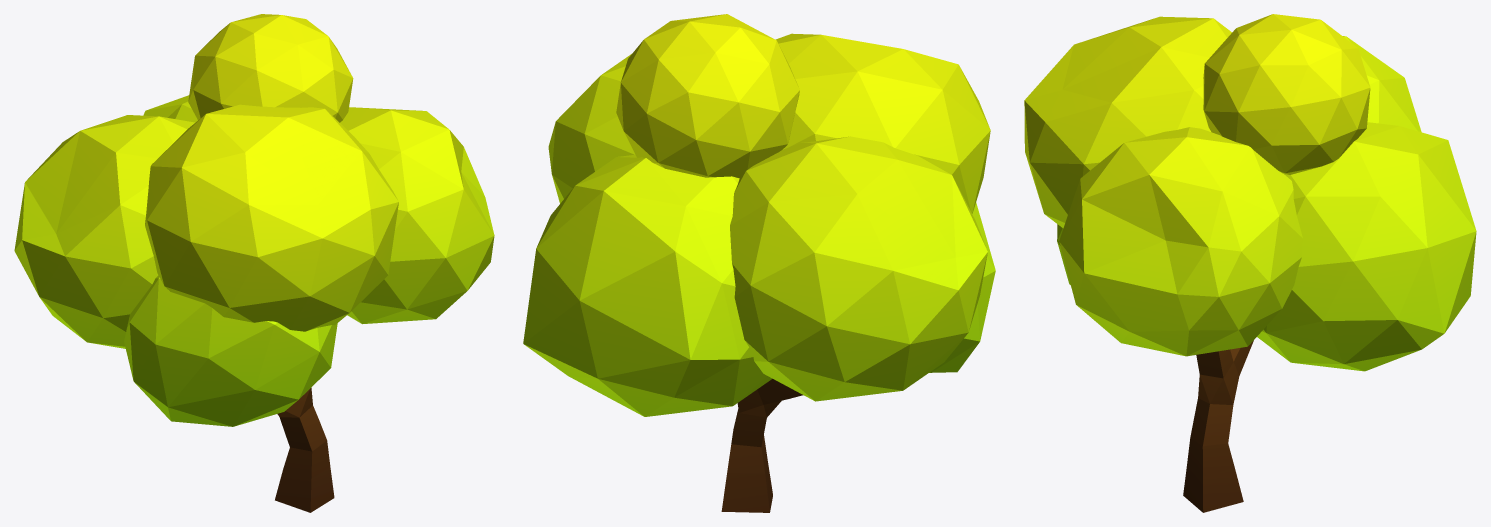
3 views of the same model, side by side, from view 1: azimuth 30°, elevation 25°; view 2: azimuth 150°, elevation 25°; view 3: azimuth 270°, elevation 25° (orthographic). The views are drawn at different scales.
Visible parts, largest first — view 1: Object_1315; view 2: Object_1315; view 3: Object_1315.
Boxes of the visible parts, x1=… form: Object_1315: x1=14, y1=14, x2=494, y2=512; Object_1315: x1=523, y1=14, x2=995, y2=512; Object_1315: x1=1024, y1=14, x2=1476, y2=512.
Bounding box in the file's own units: 1.17 × 1.24 × 1.06.
1 material, 1 textured.
